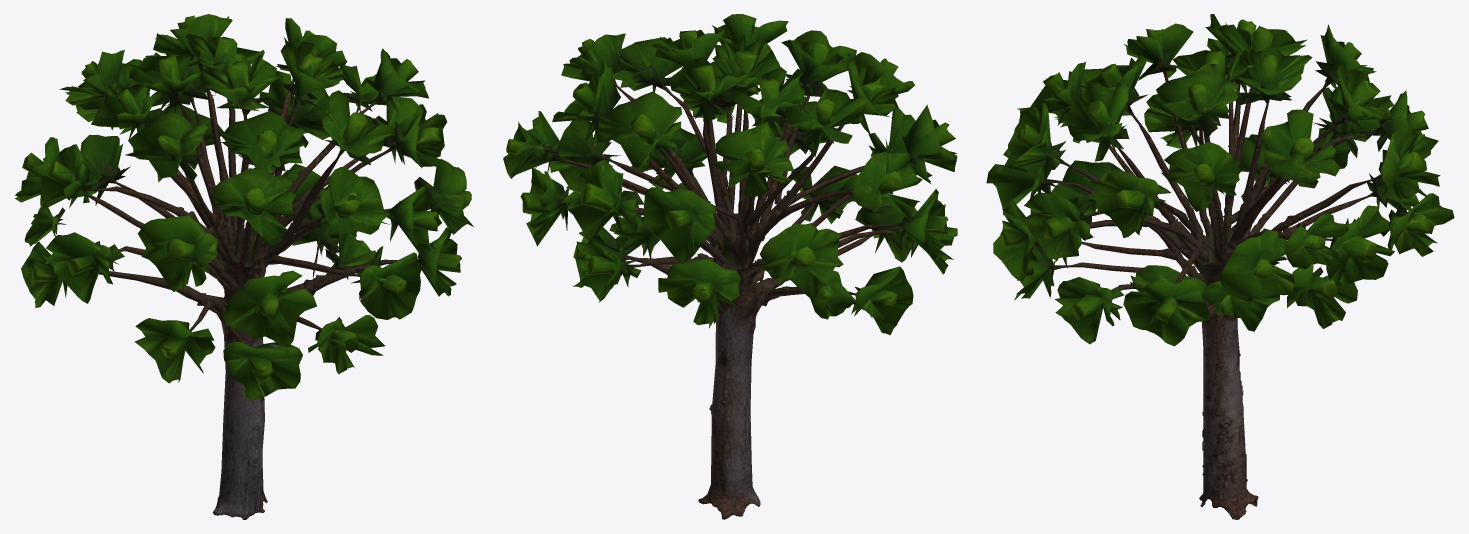
Rendered from runtime-scalesia-pedunculata-tree.glb.
The picture shows the model from 3 angles, left to right: view 1: azimuth 30°, elevation 25°; view 2: azimuth 150°, elevation 25°; view 3: azimuth 270°, elevation 25°; orthographic projection.
Parts seen in each view (by area): view 1: tripo_node_93fd6c5d-89bc-4c6a-aeaa-89123ddb1689; view 2: tripo_node_93fd6c5d-89bc-4c6a-aeaa-89123ddb1689; view 3: tripo_node_93fd6c5d-89bc-4c6a-aeaa-89123ddb1689.
Boxes of the visible parts, left/top/right/bottom form: tripo_node_93fd6c5d-89bc-4c6a-aeaa-89123ddb1689: left=15, top=14, right=473, bottom=519; tripo_node_93fd6c5d-89bc-4c6a-aeaa-89123ddb1689: left=503, top=14, right=957, bottom=519; tripo_node_93fd6c5d-89bc-4c6a-aeaa-89123ddb1689: left=986, top=14, right=1454, bottom=519.
Size of the model in its own units: 5.03 by 5.5 by 5.11.
1 material, 1 textured.
